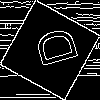D: (25, 25, 79, 72)
